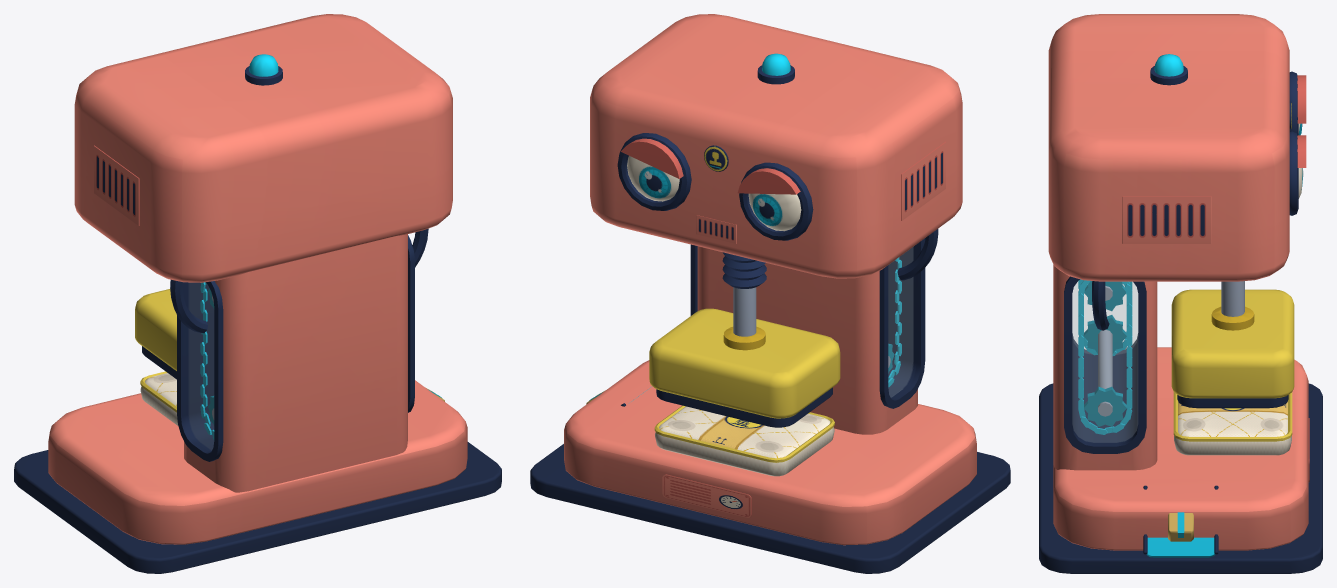
The model's file is machine_reception_stamp.glb.
3 renders of one model, left to right at view 1: azimuth 30°, elevation 25°; view 2: azimuth 150°, elevation 25°; view 3: azimuth 270°, elevation 25°, orthographic.
Visible parts, largest first — view 1: machine_reception_stamp_LOD0; view 2: machine_reception_stamp_LOD0; view 3: machine_reception_stamp_LOD0.
Boxes of the visible parts, x1,y1,x2,y2 form: machine_reception_stamp_LOD0: [14, 14, 501, 573]; machine_reception_stamp_LOD0: [530, 14, 1010, 573]; machine_reception_stamp_LOD0: [1039, 14, 1322, 573].
Size of the model in its own units: 18 by 20 by 12.
2 materials, 1 textured.
